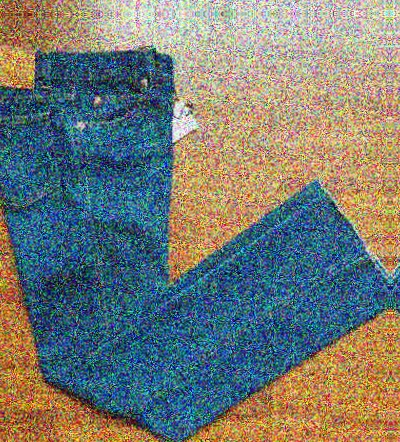Pants: (0, 27, 390, 438), (391, 26, 400, 437)
